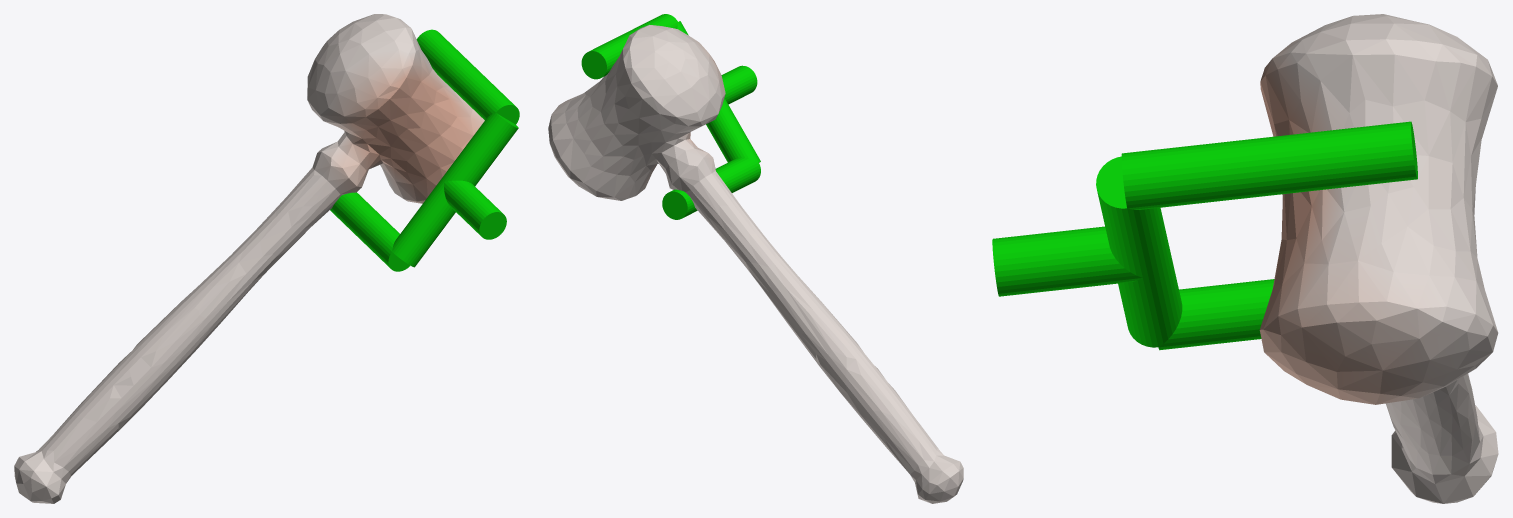
Rendered from round_001_trial_000.obj.
3 views of the same model, side by side, from view 1: azimuth 30°, elevation 25°; view 2: azimuth 150°, elevation 25°; view 3: azimuth 270°, elevation 25° (orthographic). The views are drawn at different scales.
Visible parts, largest first — view 1: geometry_0, geometry_1; view 2: geometry_0, geometry_1; view 3: geometry_0, geometry_1.
Boxes of the visible parts, x1=… form: geometry_0: x1=14, y1=14, x2=484, y2=503; geometry_1: x1=330, y1=29, x2=519, y2=271; geometry_0: x1=548, y1=25, x2=963, y2=503; geometry_1: x1=581, y1=14, x2=760, y2=219; geometry_0: x1=1259, y1=14, x2=1498, y2=503; geometry_1: x1=992, y1=121, x2=1417, y2=350.
Bounding box in the file's own units: 0.1645 × 0.144 × 0.0868.
